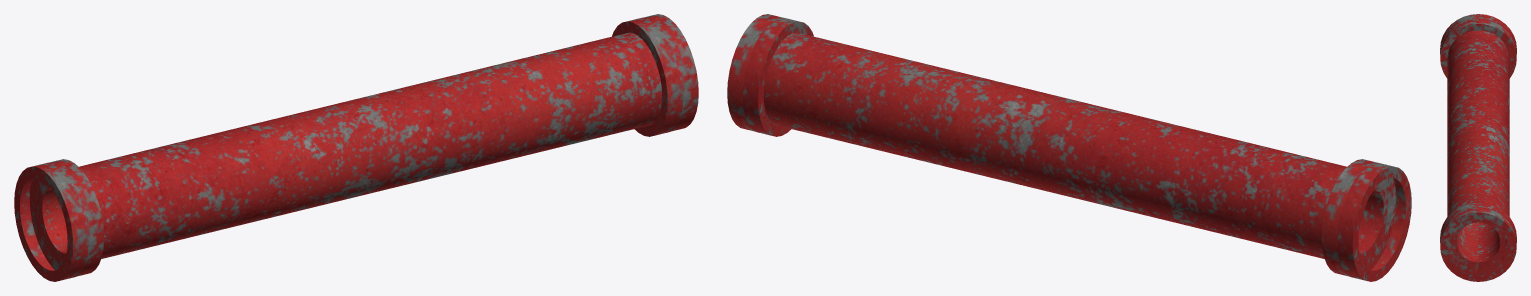
Rendered from pipeline1.fbx.
3 views of the same model, side by side, from view 1: azimuth 30°, elevation 25°; view 2: azimuth 150°, elevation 25°; view 3: azimuth 270°, elevation 25° (orthographic). The views are drawn at different scales.
Parts seen in each view (by area): view 1: Pipe_6.024; view 2: Pipe_6.024; view 3: Pipe_6.024.
Part boxes in pixels (box(x1,y1,x2,y2)): Pipe_6.024: box(14, 14, 698, 281); Pipe_6.024: box(727, 14, 1411, 281); Pipe_6.024: box(1440, 14, 1516, 281).
Bounding box in the file's own units: 222 × 36.35 × 36.35.
